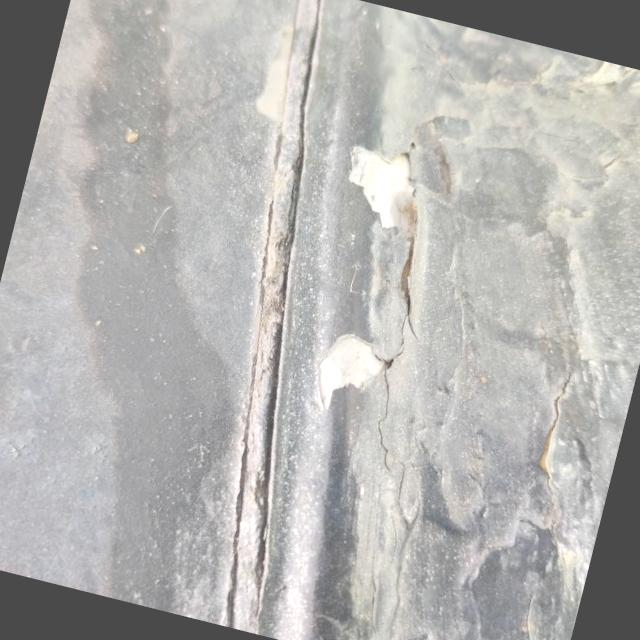crack: (258, 84, 522, 514), (462, 349, 637, 640)
